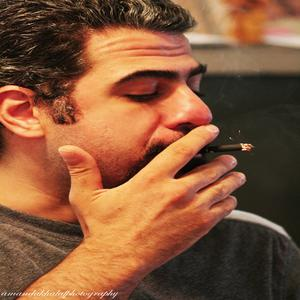cigarette: (199, 143, 257, 156)
